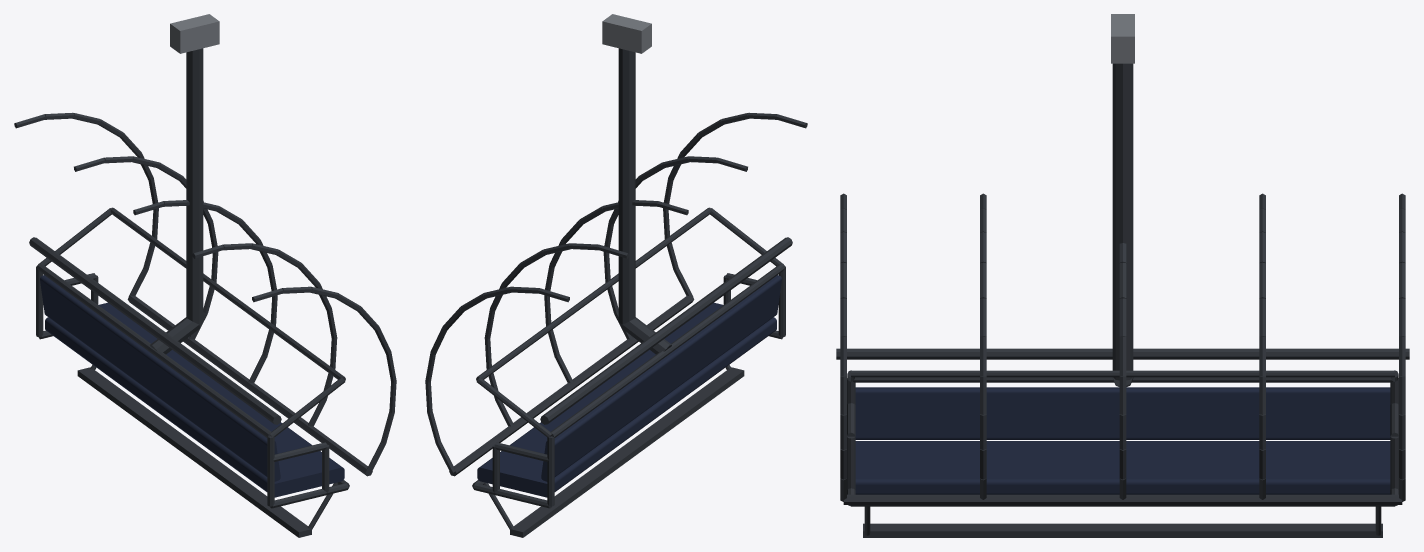
Rendered from chair_6pack_bubble.obj.
3 views of the same model, side by side, from view 1: azimuth 30°, elevation 25°; view 2: azimuth 150°, elevation 25°; view 3: azimuth 270°, elevation 25° (orthographic). The views are drawn at different scales.
Bounding box in the file's own units: 1.31 × 3.78 × 3.86.
